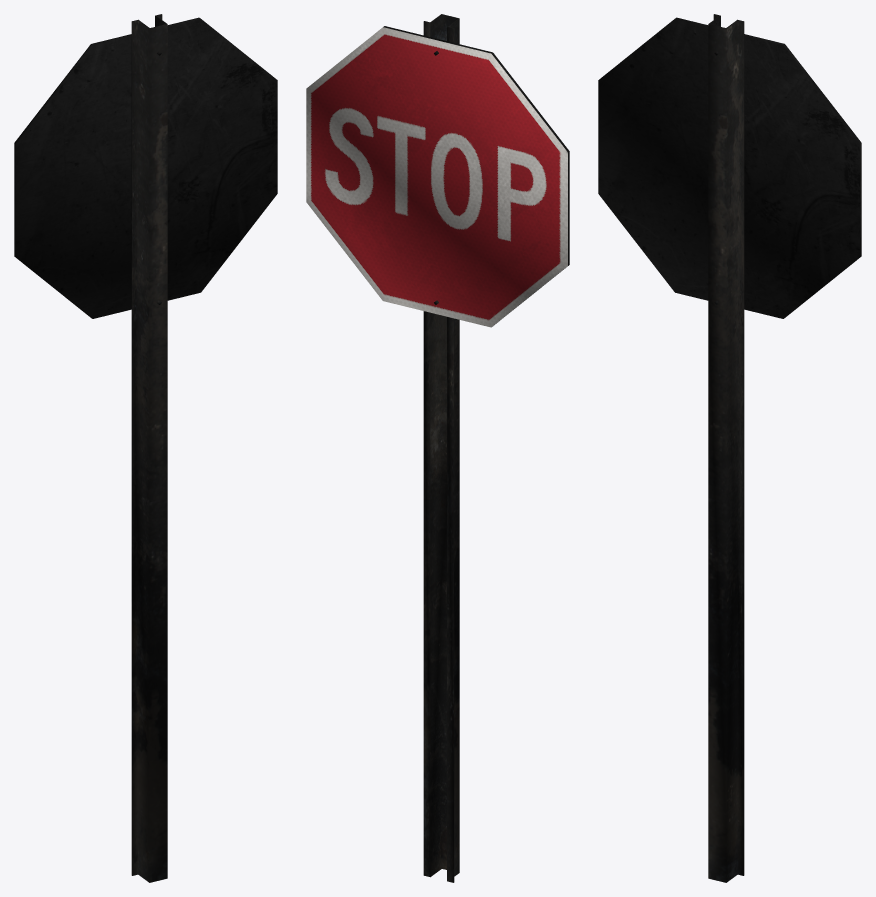
File: stop-sign-ts.glb
The picture shows the model from 3 angles, left to right: view 1: azimuth 30°, elevation 25°; view 2: azimuth 150°, elevation 25°; view 3: azimuth 330°, elevation 25°; orthographic projection.
Visible parts, largest first — view 1: Object_3; view 2: Object_3; view 3: Object_3.
Part boxes in pixels (x1,y1,x2,y2): Object_3: [14, 14, 277, 882]; Object_3: [306, 14, 569, 882]; Object_3: [598, 14, 861, 882].
Bounding box in the file's own units: 0.789 × 2.46 × 0.0844.
1 material, 1 textured.
